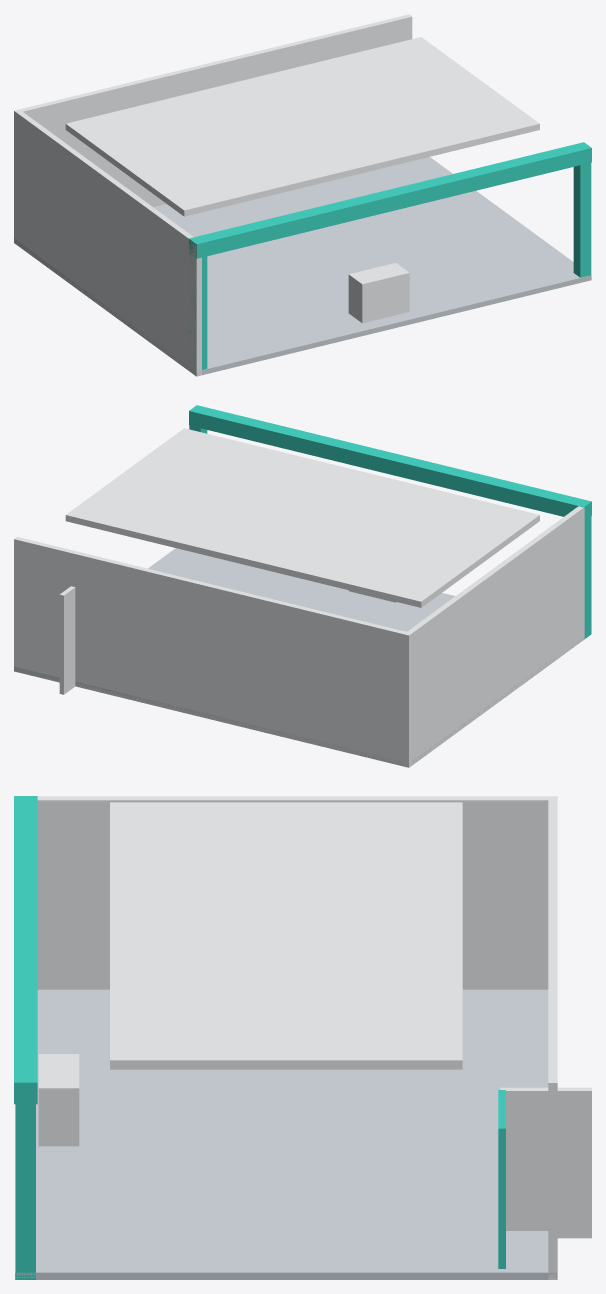
3 views of the same model, one above another, from view 1: azimuth 30°, elevation 25°; view 2: azimuth 150°, elevation 25°; view 3: azimuth 270°, elevation 25° (orthographic). The views are drawn at different scales.
Parts seen in each view (by area): view 1: Exhibition Booth Concept; view 2: Exhibition Booth Concept; view 3: Exhibition Booth Concept.
Boxes of the visible parts, bbox=[...] form: Exhibition Booth Concept: bbox=[14, 14, 591, 376]; Exhibition Booth Concept: bbox=[14, 405, 591, 767]; Exhibition Booth Concept: bbox=[14, 796, 591, 1279].
Size of the model in its own units: 10 by 3.34 by 8.52.
